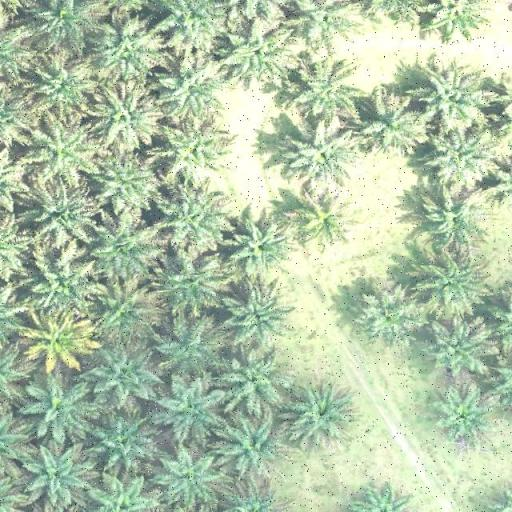Ganoderma: (35, 320, 80, 359)
